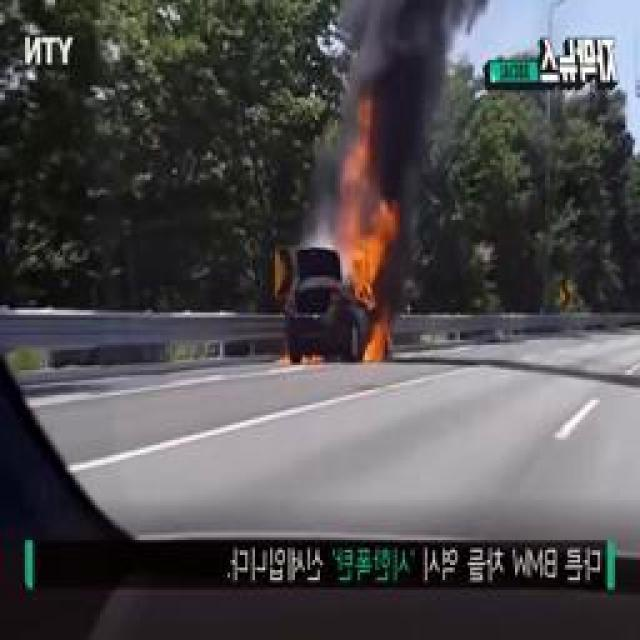fire: (336, 193, 397, 362)
smoke: (310, 5, 481, 150)
